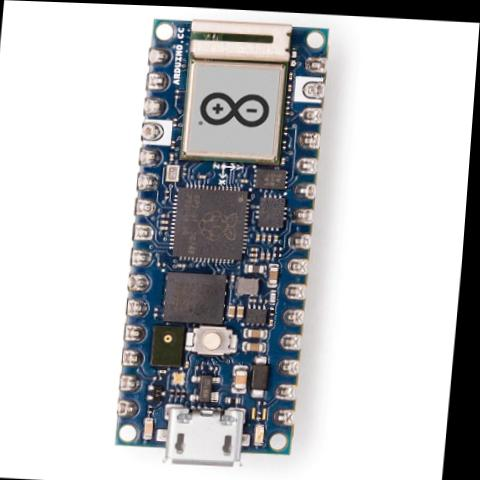Arduino-Nano: (62, 3, 387, 477)
